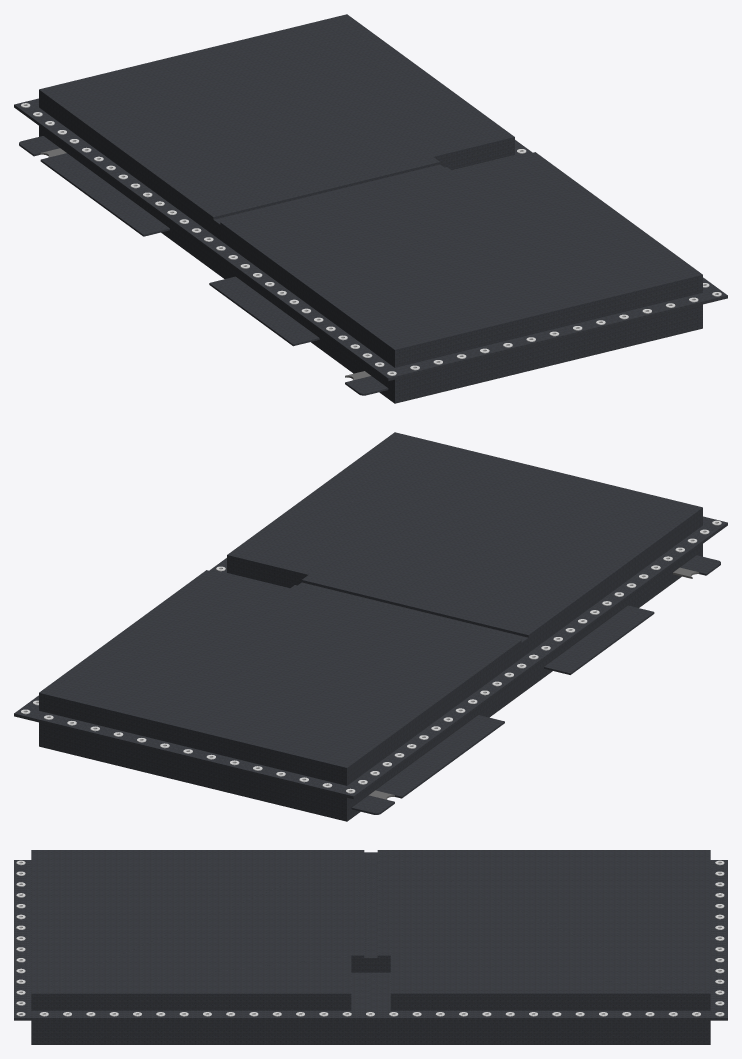
Rendered from single-bat.gltf.
The picture shows the model from 3 angles, top to bottom: view 1: azimuth 30°, elevation 25°; view 2: azimuth 150°, elevation 25°; view 3: azimuth 270°, elevation 25°; orthographic projection. The views are drawn at different scales.
Parts seen in each view (by area): view 1: 组件#11; view 2: 组件#11; view 3: 组件#11.
Boxes of the visible parts, bbox=[...] form: 组件#11: bbox=[14, 14, 727, 403]; 组件#11: bbox=[14, 432, 727, 821]; 组件#11: bbox=[14, 850, 727, 1044].
Size of the model in its own units: 1.02 by 0.15 by 1.89.
4 materials, 1 textured.
